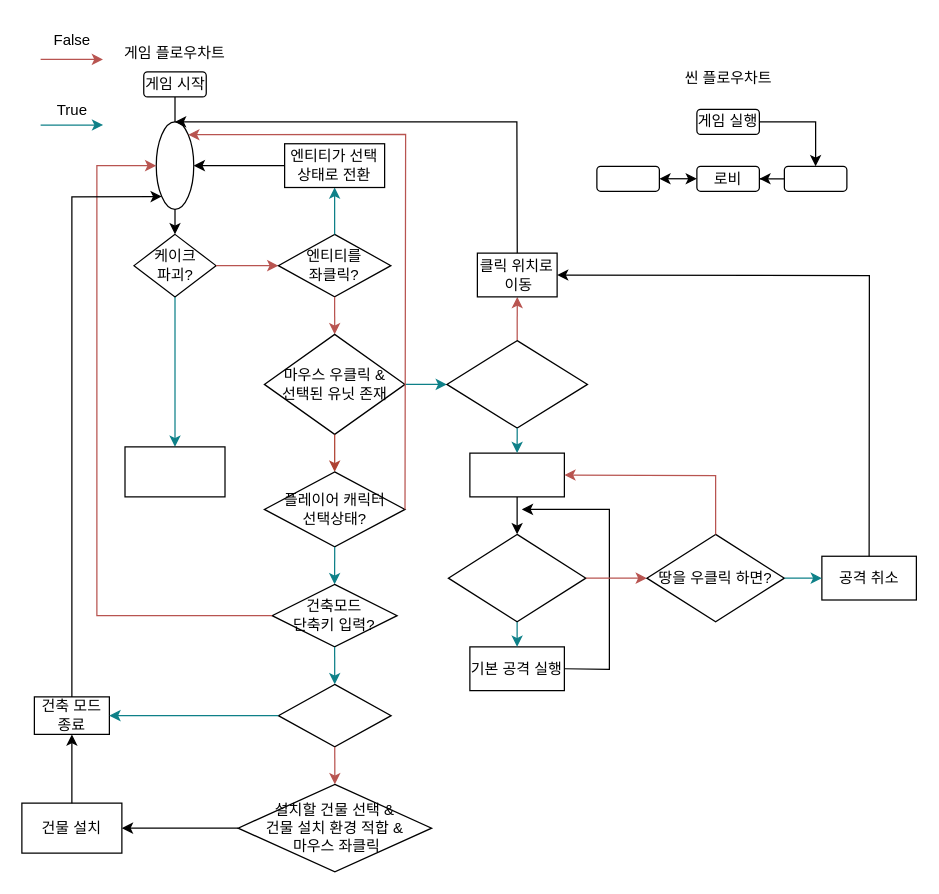
This 939x894 diagram has some shape labels left out. Here are the shapes that lost their labels. From the top down, the box of each, then its label:
(155, 121, 194, 209): 반복
(596, 165, 659, 191): 게임
(783, 165, 847, 191): 타이틀
(446, 339, 588, 428): 우클릭 위치가 상대팀 엔티티?
(124, 446, 225, 497): 게임 종료
(469, 452, 564, 497): 상대 유닛으로 이동
(447, 533, 586, 622): 두 유닛의 거리가 기본 공격 사거리보다 짧으면?
(277, 683, 391, 747): 건축모드 헤제 단축키 입력
